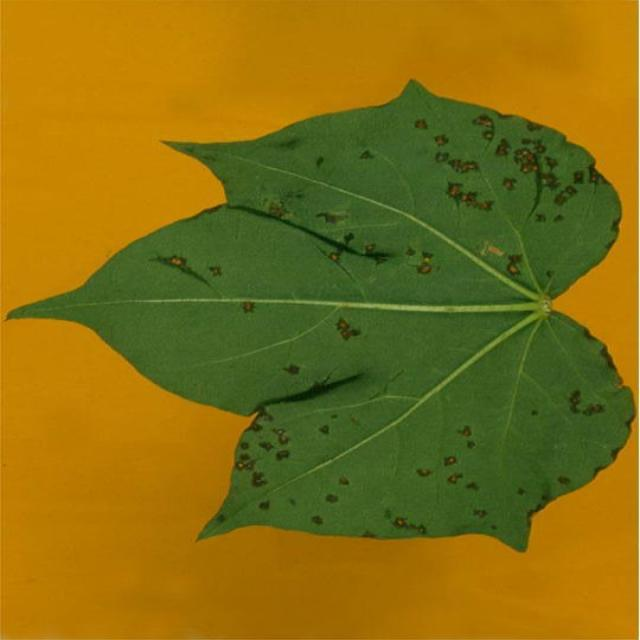Bacterial Blight: (327, 102, 612, 276)
